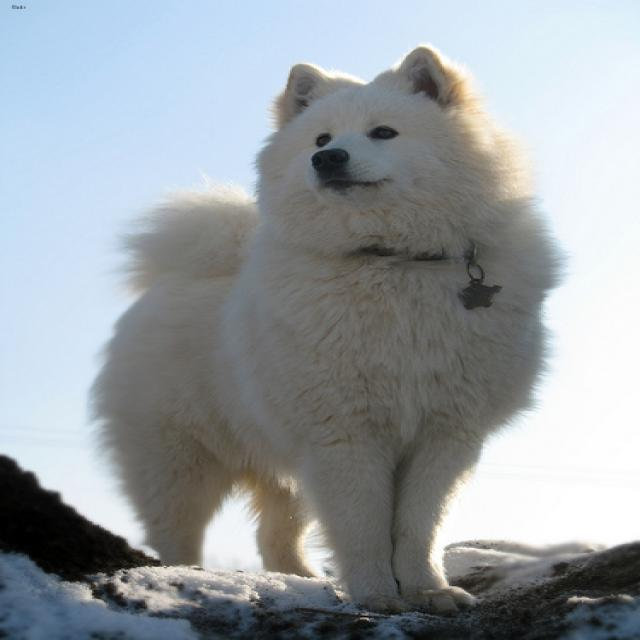dog-samoyed: (82, 35, 577, 628)
